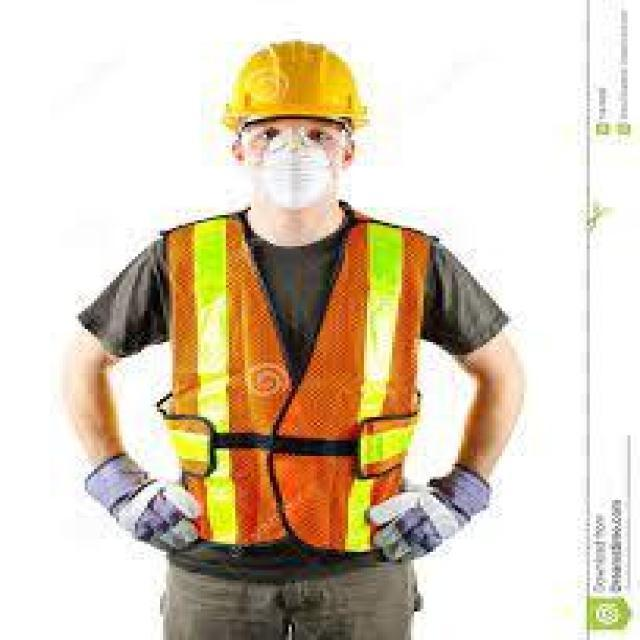safety_helmet: (160, 209, 435, 557)
